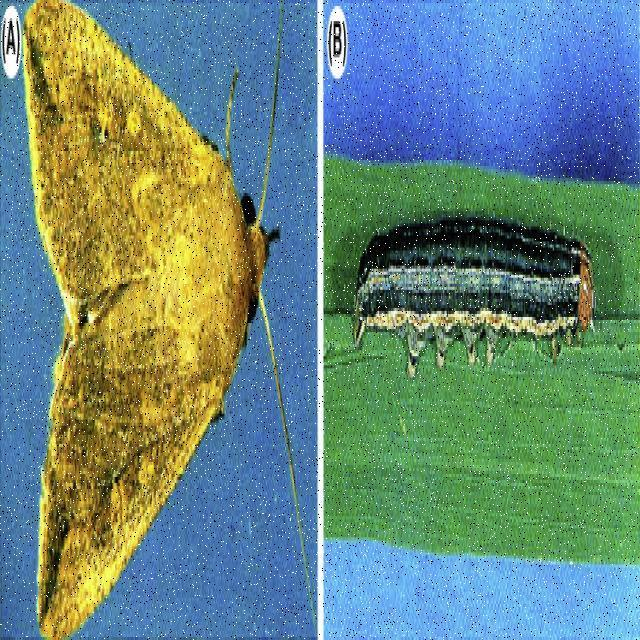army worm: (342, 173, 615, 439)
